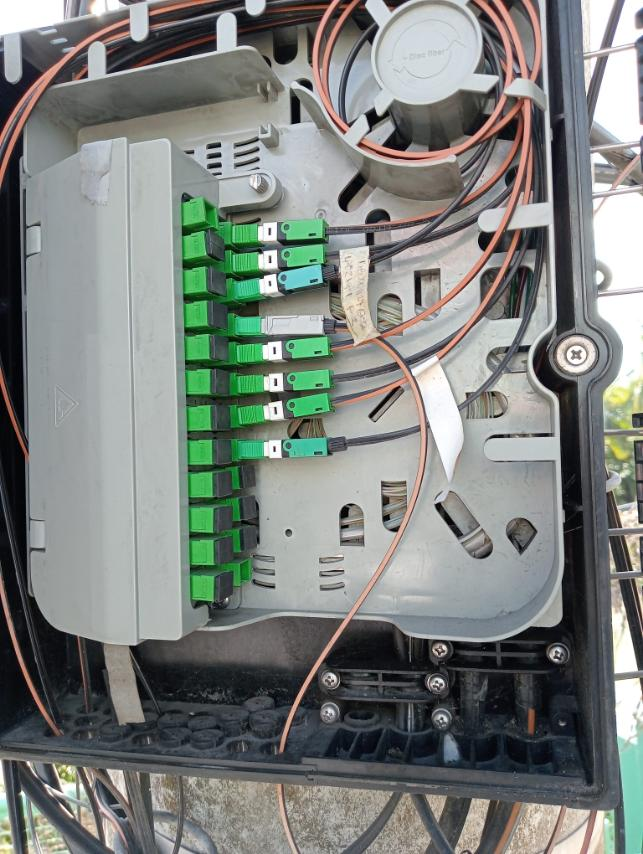no dust cap: (204, 197, 221, 230), (240, 560, 252, 586)
occupied: (233, 260, 338, 306), (239, 392, 335, 431), (232, 241, 329, 279), (234, 333, 333, 367), (237, 435, 348, 462), (232, 220, 330, 249), (236, 369, 336, 396), (233, 313, 337, 338)
vacant: (207, 230, 225, 262), (212, 333, 230, 364), (209, 266, 227, 297), (211, 299, 229, 330), (218, 571, 234, 603), (217, 537, 234, 565), (241, 526, 259, 552), (217, 469, 233, 497), (217, 507, 233, 533), (216, 439, 233, 463), (240, 464, 257, 488), (242, 495, 258, 520), (214, 369, 230, 393), (215, 406, 231, 430)
